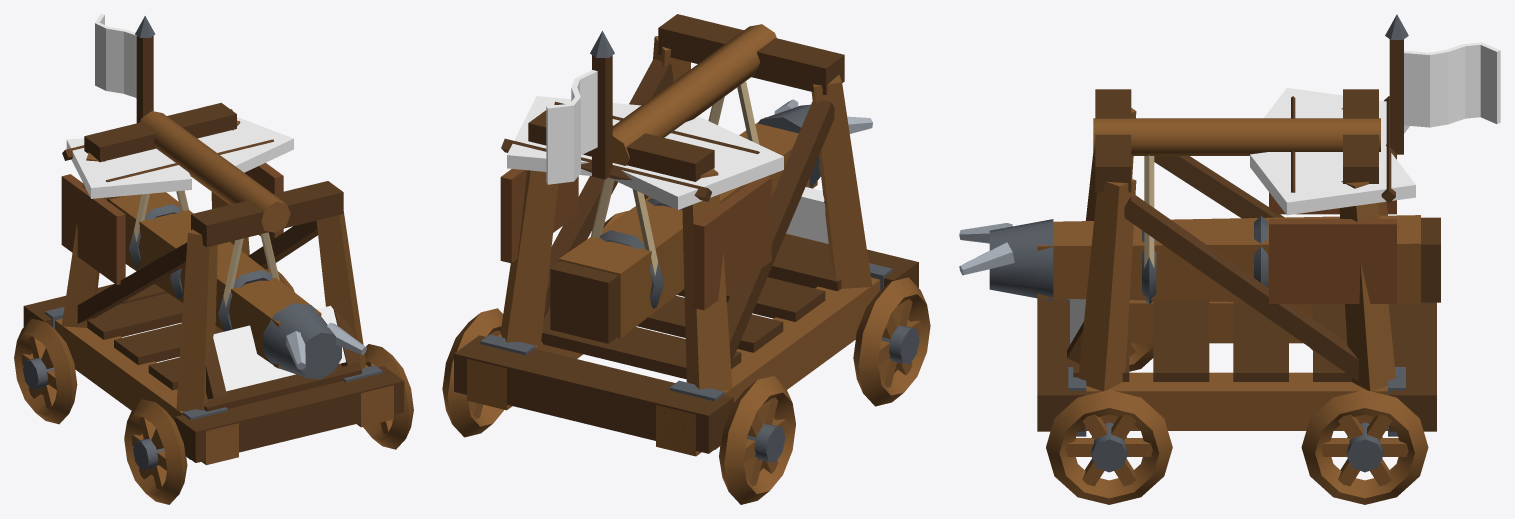
The model's file is Ram_FirstAge.glb.
The picture shows the model from 3 angles, left to right: view 1: azimuth 30°, elevation 25°; view 2: azimuth 150°, elevation 25°; view 3: azimuth 270°, elevation 25°; orthographic projection. The views are drawn at different scales.
Parts seen in each view (by area): view 1: Dark, Wood, Team, Wheel_Wood, Log_Wood, Leather, Log_Metal, Log_Rope, Wheel_Metal, Log_Steel, Metal; view 2: Dark, Wood, Wheel_Wood, Team, Leather, Log_Wood, Log_Dark, Log_Rope, Log_Metal, Wheel_Metal, Metal; view 3: Dark, Wood, Wheel_Wood, Team, Log_Wood, Leather, Log_Metal, Wheel_Metal, Log_Dark, Log_Steel, Metal, Log_Rope.
Part boxes in pixels (<box>): Dark: <box>23,36,404,462</box>; Wood: <box>55,111,393,465</box>; Team: <box>66,14,345,391</box>; Wheel_Wood: <box>14,268,413,504</box>; Log_Wood: <box>109,192,321,368</box>; Leather: <box>61,162,283,284</box>; Log_Metal: <box>128,204,341,379</box>; Log_Rope: <box>134,190,279,306</box>; Wheel_Metal: <box>23,358,164,469</box>; Log_Steel: <box>286,322,366,370</box>; Metal: <box>45,16,382,459</box>; Dark: <box>454,14,918,453</box>; Wood: <box>467,24,880,456</box>; Wheel_Wood: <box>442,210,930,504</box>; Team: <box>507,70,828,243</box>; Leather: <box>500,169,771,310</box>; Log_Wood: <box>559,117,817,338</box>; Log_Dark: <box>550,261,618,343</box>; Log_Rope: <box>590,81,759,275</box>; Log_Metal: <box>599,104,820,308</box>; Wheel_Metal: <box>747,325,919,462</box>; Metal: <box>480,31,892,449</box>; Dark: <box>1037,39,1436,431</box>; Wood: <box>1078,108,1395,430</box>; Wheel_Wood: <box>1046,343,1428,504</box>; Team: <box>1070,42,1500,344</box>; Log_Wood: <box>1037,215,1420,305</box>; Leather: <box>1269,154,1396,303</box>; Log_Metal: <box>989,215,1268,304</box>; Wheel_Metal: <box>1091,422,1383,472</box>; Log_Dark: <box>1421,217,1440,302</box>; Log_Steel: <box>959,223,1014,275</box>; Metal: <box>1068,14,1408,436</box>; Log_Rope: <box>1144,155,1154,267</box>.
Bounding box in the file's own units: 0.86 × 1.18 × 1.36.
